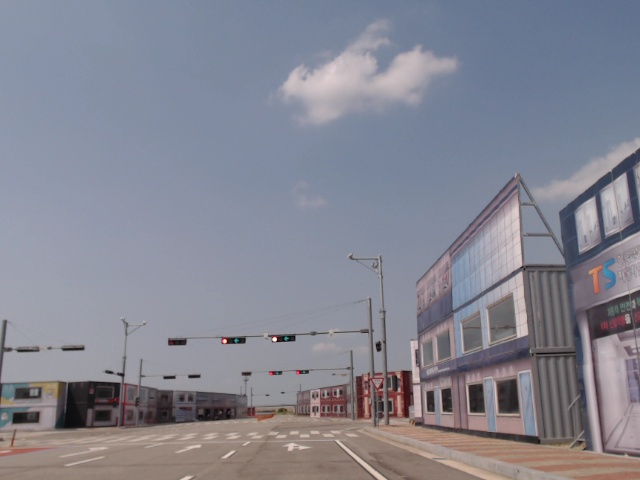left_green_4: (273, 335, 295, 341), (221, 338, 244, 343), (269, 371, 283, 375), (296, 370, 309, 374)
